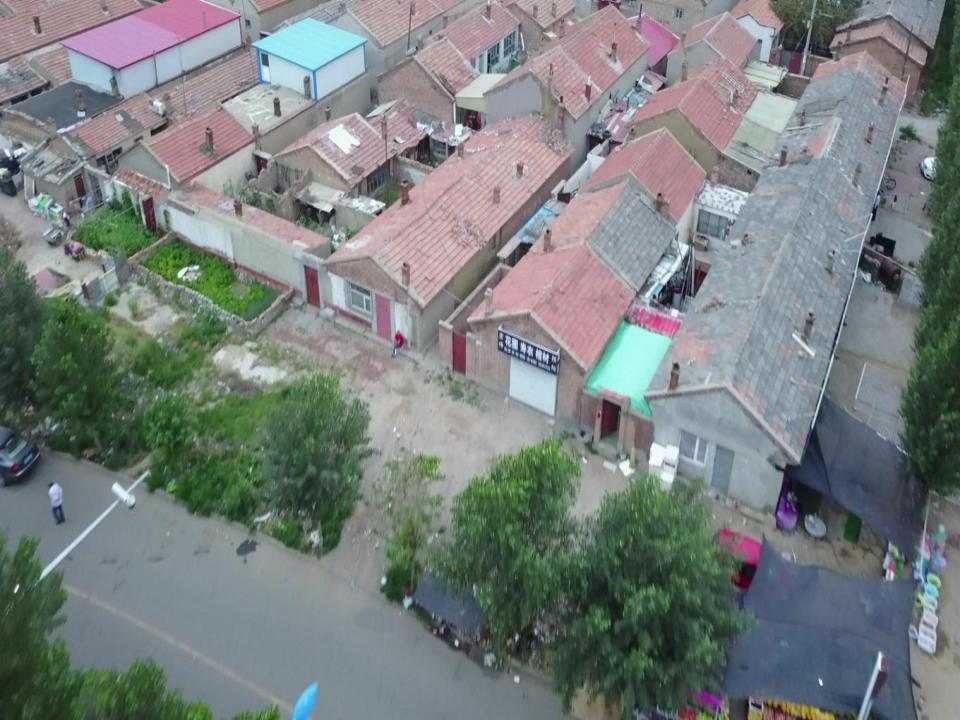car: (0, 426, 41, 487), (920, 156, 960, 185)
van: (706, 529, 794, 607)
